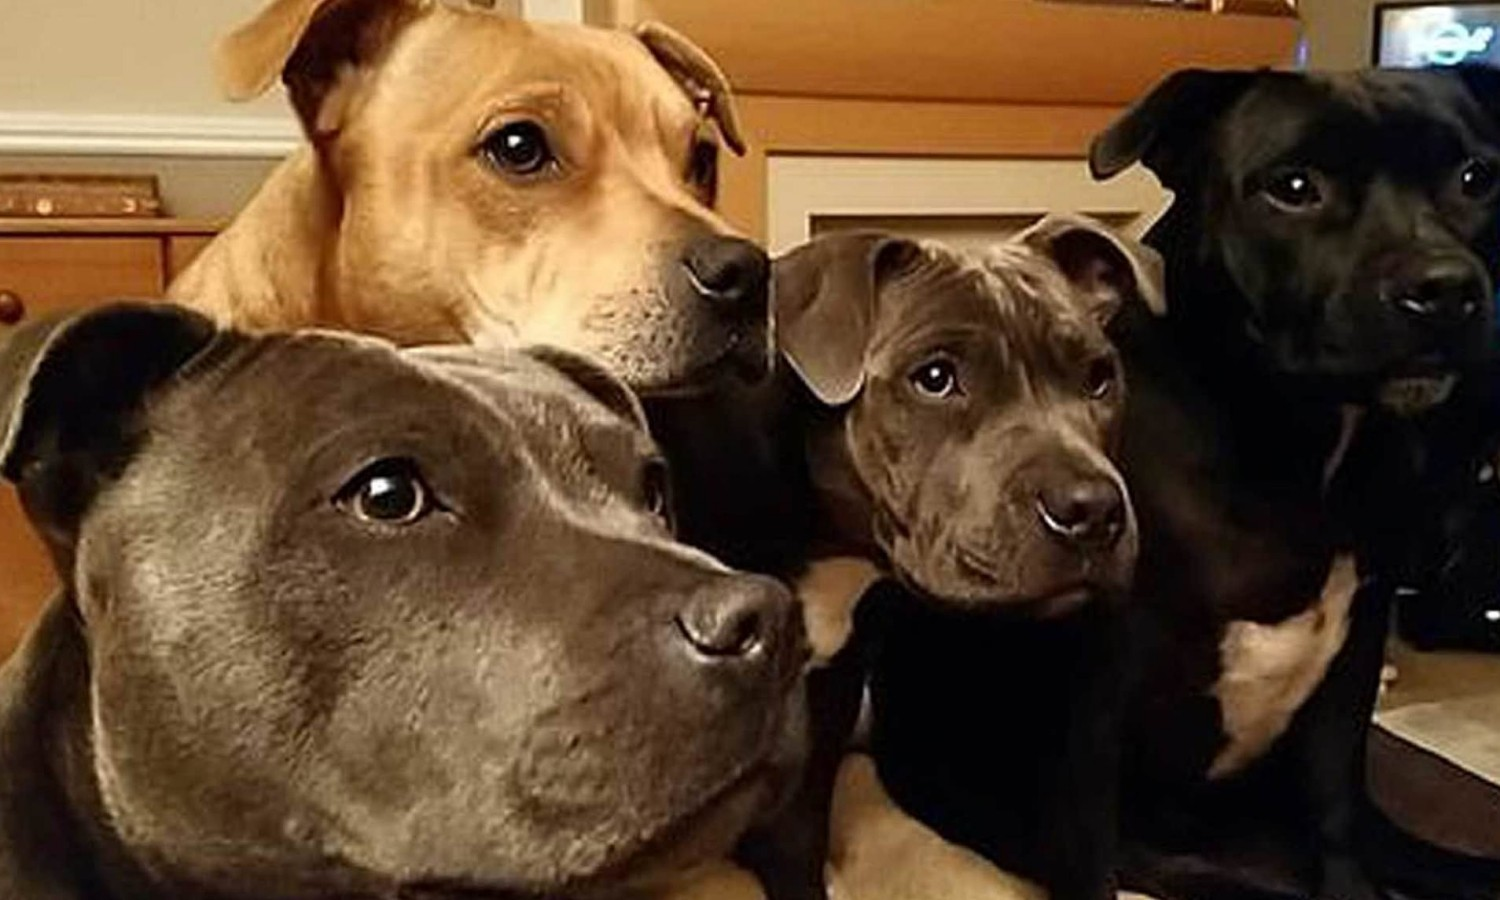staffordshire_bullterrier: (871, 65, 1500, 900), (2, 292, 802, 899), (636, 210, 1167, 898), (153, 0, 772, 397)
